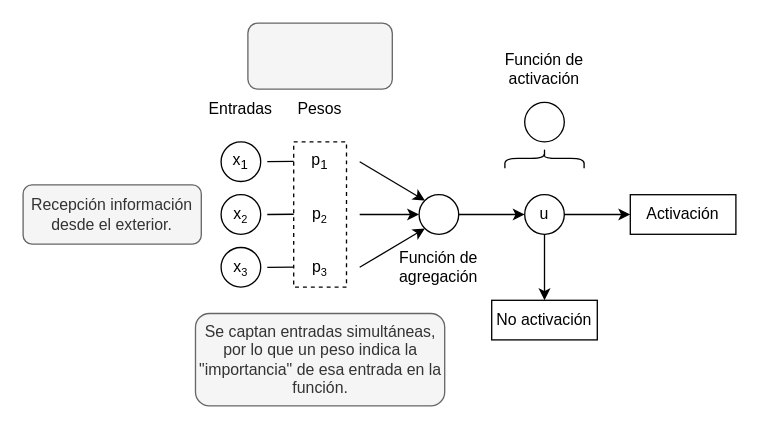
The diagram is 759 pixels wide and 429 high, and some of its shapes have lost their labels. Each missing label, with the box of its shape:
Determinan la intensidad de una entrada.: (247, 22, 392, 89)
f a: (523, 101, 564, 142)
f Σ: (418, 193, 459, 234)
Umbral: (504, 147, 584, 168)
